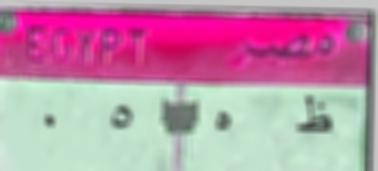0: (38, 110, 60, 134)
5: (103, 104, 139, 132)
Thaa: (294, 91, 336, 140)
haa: (212, 107, 234, 137)
